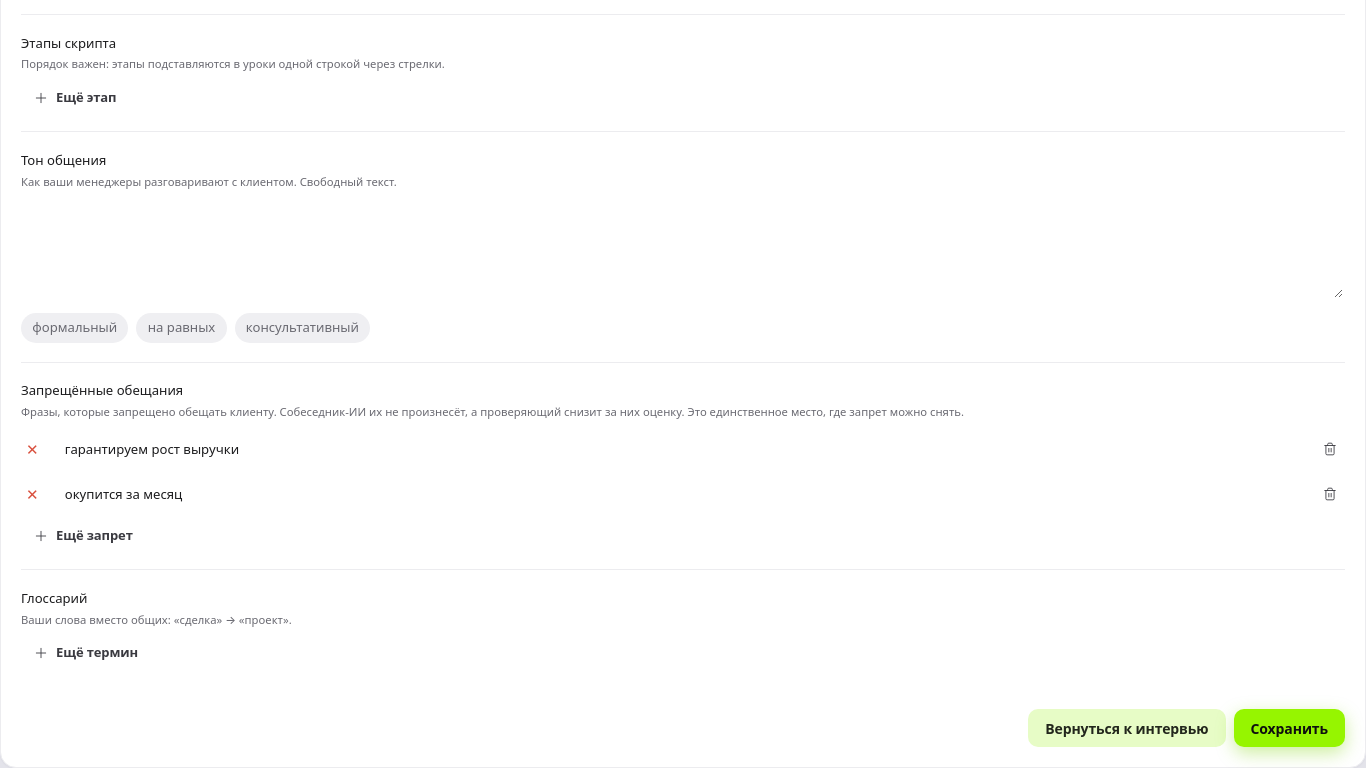
the full profile form guards banned claims › does not remove a claim on the first click — it asks first
(page scrolled)
Click the button named "Снять запрет 1": (1330, 449) [1315,434,1345,464]
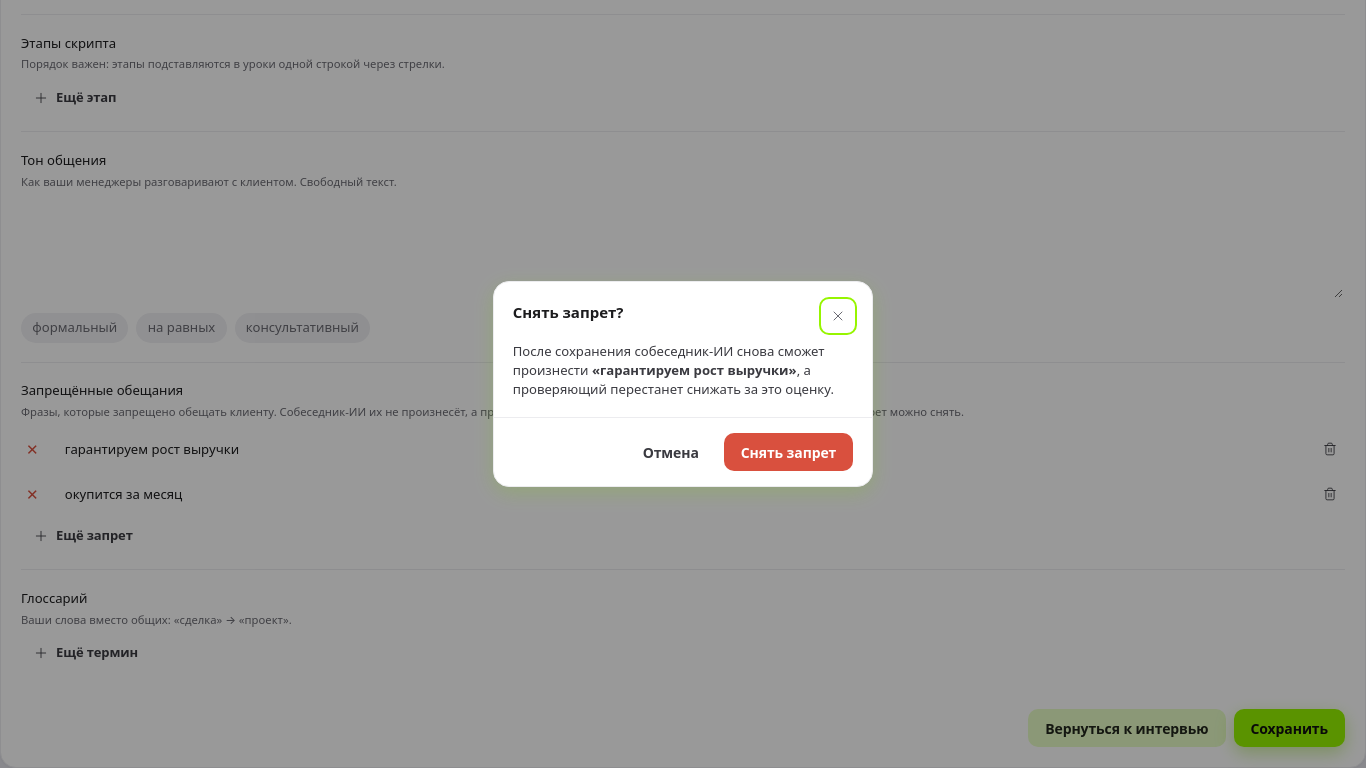
Check: the field showing "гарантируем рост выручки" is shown, box [52,430,1307,468]
Check: the dialog is shown, box [493,281,873,487]
Check: the text "«гарантируем рост выручки»" is shown, box [592,361,797,379]
